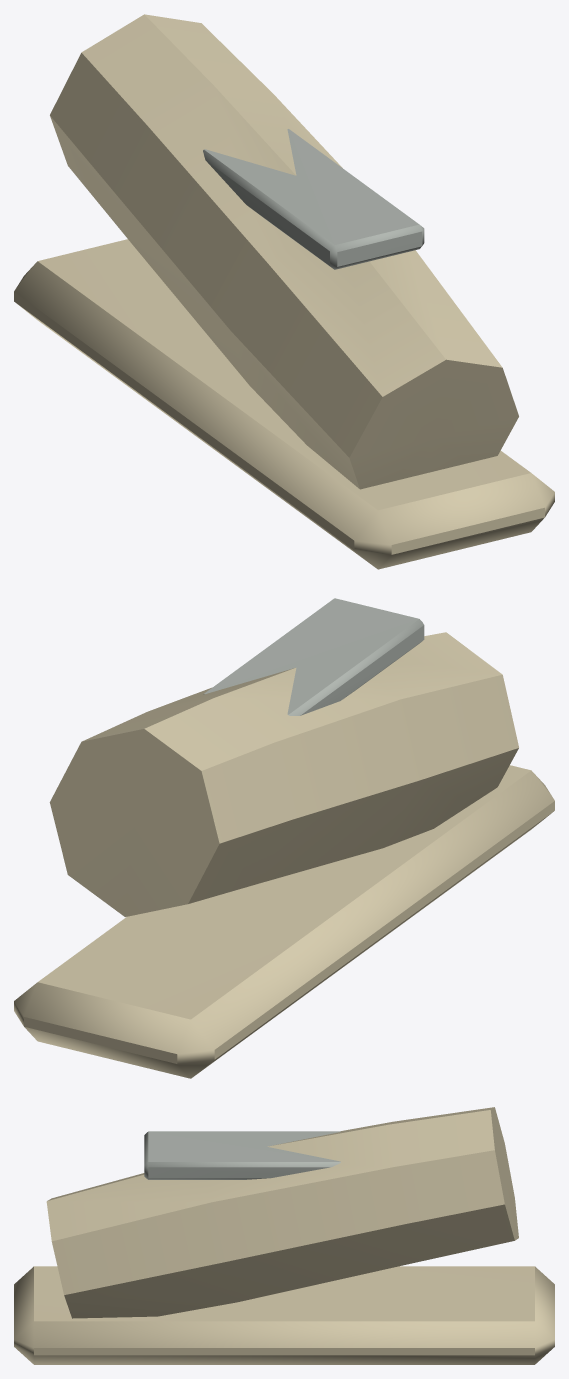
File: mall-shoe-sneaker.glb
The picture shows the model from 3 angles, top to bottom: view 1: azimuth 30°, elevation 25°; view 2: azimuth 150°, elevation 25°; view 3: azimuth 270°, elevation 25°; orthographic projection. The views are drawn at different scales.
Visible parts, largest first — view 1: upper__leather, sole__rubber, lace__paint; view 2: upper__leather, sole__rubber, lace__paint; view 3: upper__leather, sole__rubber, lace__paint.
Part boxes in pixels (x1,y1,x2,y2): upper__leather: (50, 14, 518, 489); sole__rubber: (14, 239, 554, 569); lace__paint: (203, 129, 424, 269); upper__leather: (49, 632, 518, 916); sole__rubber: (14, 765, 554, 1078); lace__paint: (203, 598, 424, 715); upper__leather: (46, 1107, 518, 1318); sole__rubber: (14, 1266, 554, 1364); lace__paint: (144, 1131, 340, 1179).
Bounding box in the file's own units: 0.085 × 0.1253 × 0.27.
